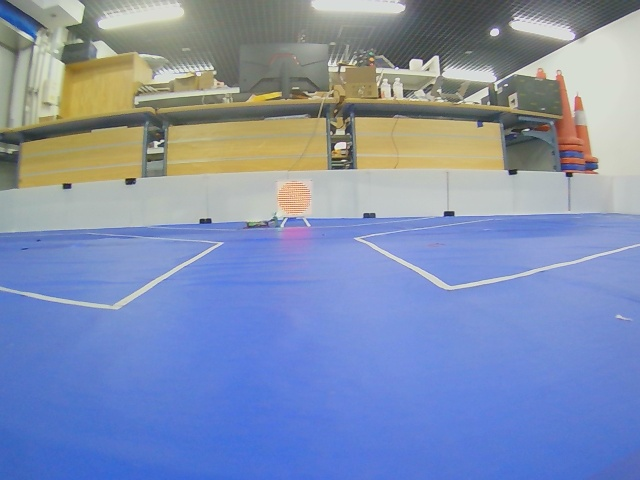red: (276, 181, 312, 217)
